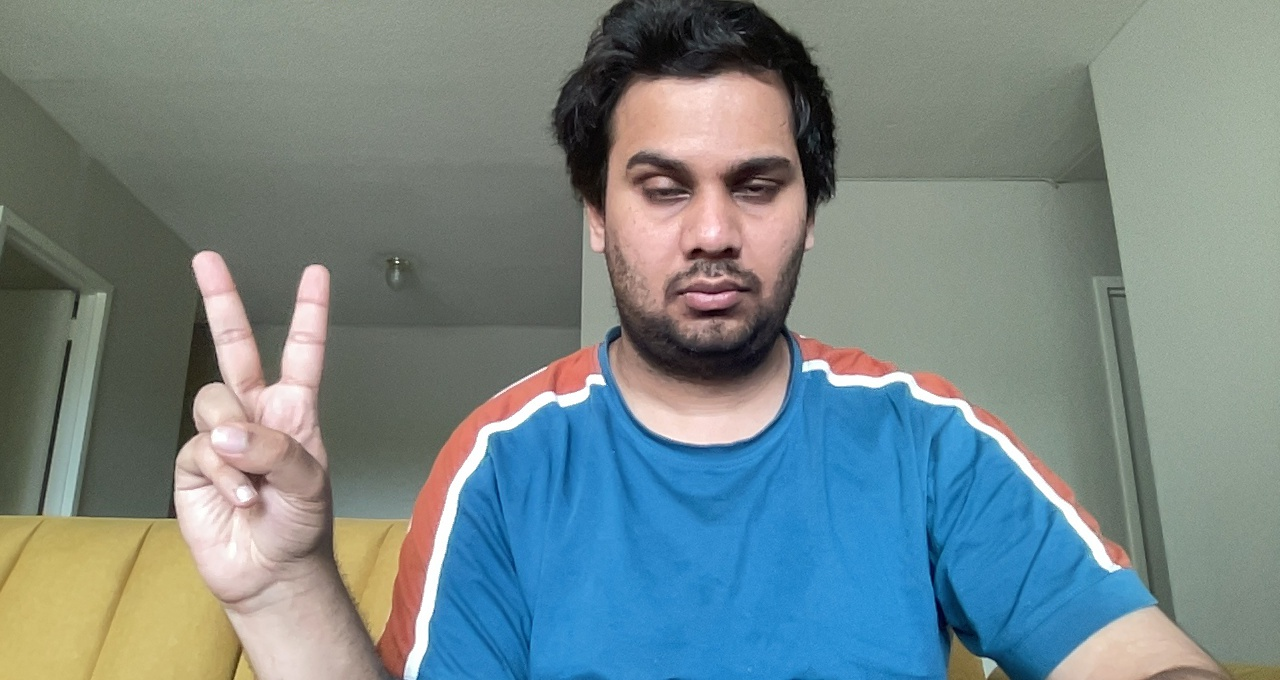peace sign: (153, 241, 357, 618)
